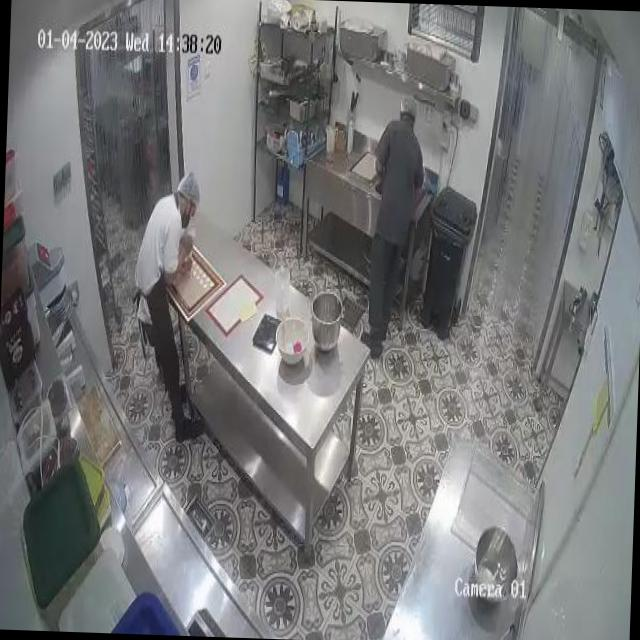hairnet: (178, 170, 200, 205), (398, 94, 416, 118)
